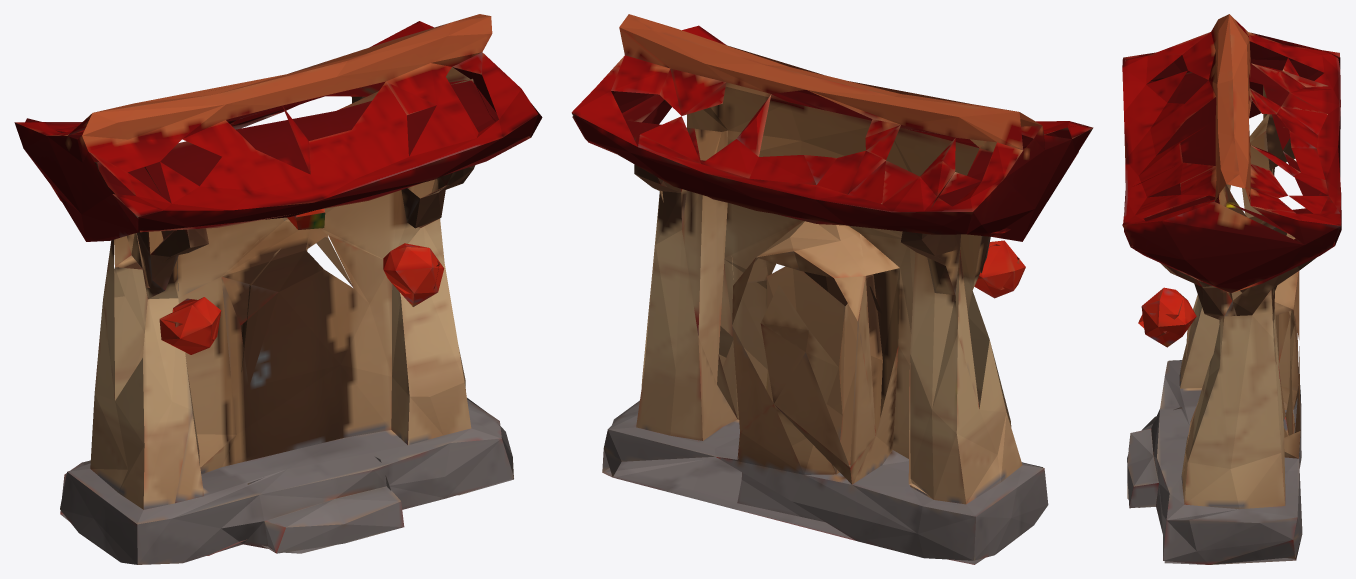
Rendered from env_piece_lod2.glb.
The picture shows the model from 3 angles, left to right: view 1: azimuth 30°, elevation 25°; view 2: azimuth 150°, elevation 25°; view 3: azimuth 270°, elevation 25°; orthographic projection. The views are drawn at different scales.
Parts seen in each view (by area): view 1: geometry_0; view 2: geometry_0; view 3: geometry_0.
Part boxes in pixels (<box>): geometry_0: <box>14,14,542,564</box>; geometry_0: <box>571,14,1093,564</box>; geometry_0: <box>1122,14,1341,564</box>.
Size of the model in its own units: 0.978 by 0.9871 by 0.5076.
Materials: 1 (1 with a texture image).
